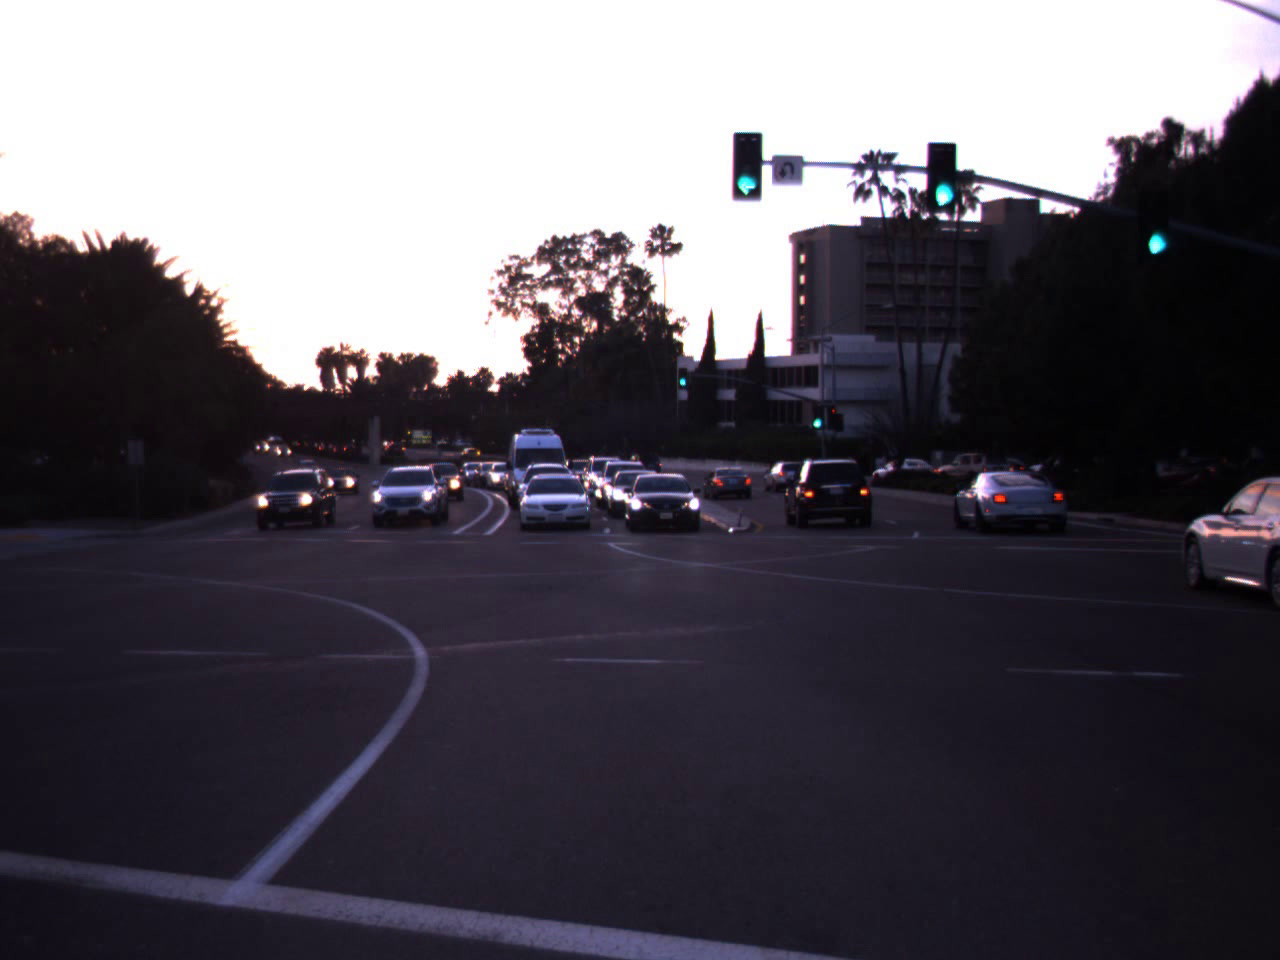go: (715, 107, 778, 202), (918, 124, 969, 214), (1133, 177, 1178, 262), (802, 379, 833, 434), (673, 350, 691, 390)
